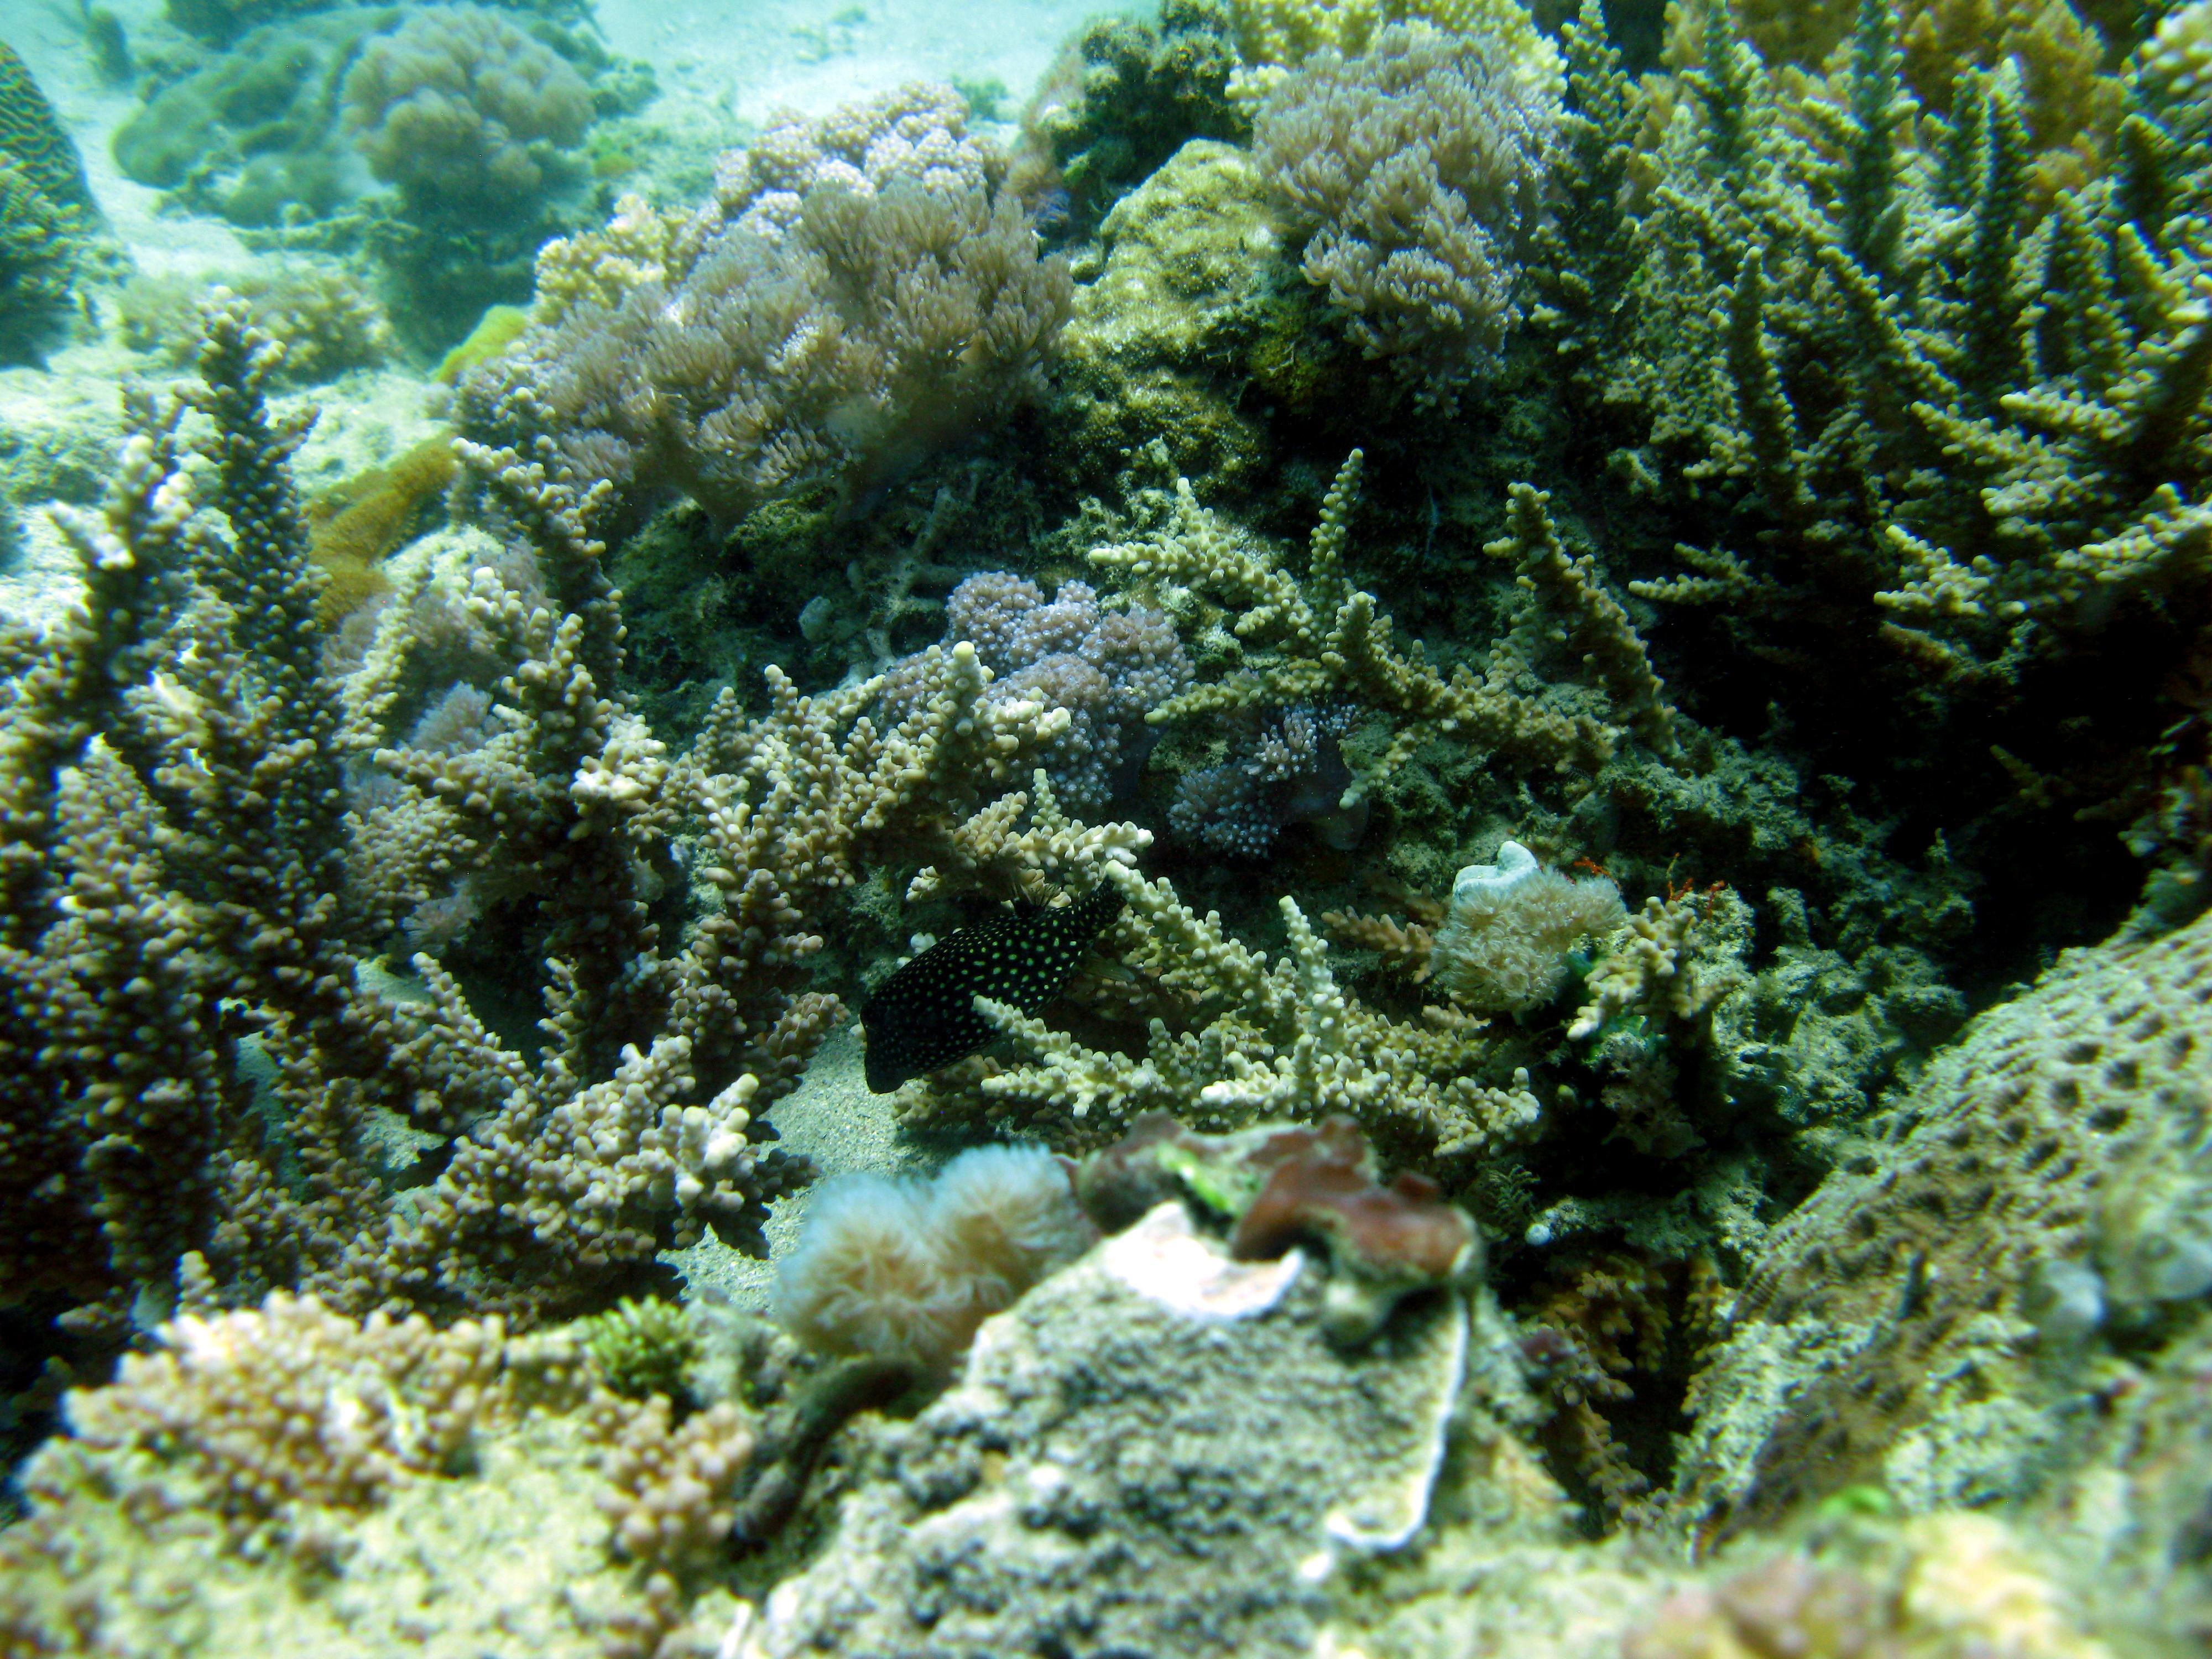Fish: (846, 877, 1202, 1112)
